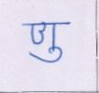u_matra: (28, 46, 66, 63)
